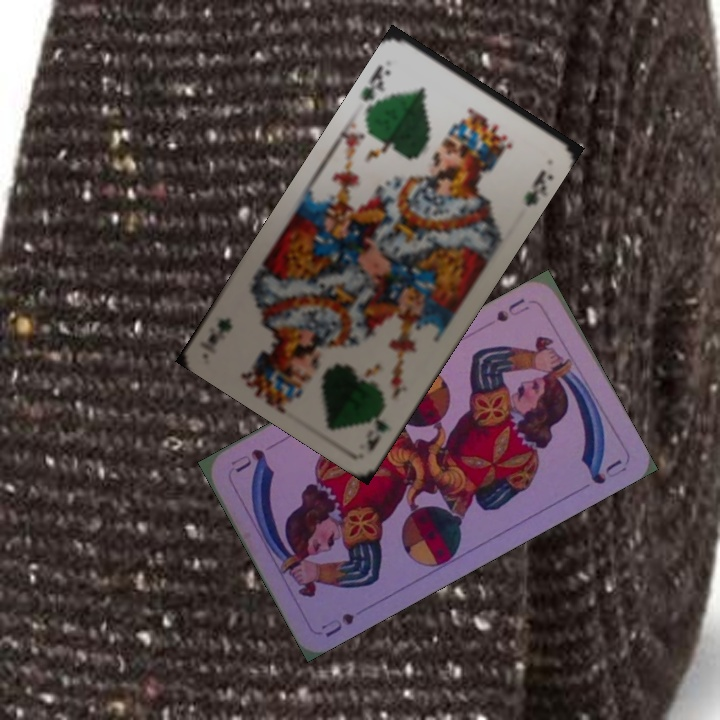GK: (363, 395, 394, 455), (357, 61, 394, 110)
SU: (317, 609, 357, 640), (492, 294, 532, 325)
